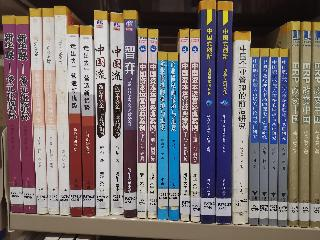book-spine: (0, 15, 25, 213), (13, 16, 38, 214), (215, 1, 234, 225), (28, 8, 48, 214), (76, 24, 97, 217), (199, 1, 217, 225), (42, 9, 60, 215), (53, 7, 70, 215), (92, 10, 109, 216), (232, 32, 250, 225), (108, 12, 124, 215), (66, 26, 83, 217), (123, 9, 138, 218), (298, 22, 312, 228), (246, 48, 261, 225), (288, 22, 301, 226), (136, 28, 149, 219), (267, 47, 280, 226), (180, 29, 192, 222), (258, 48, 270, 226), (277, 49, 289, 227), (146, 29, 157, 220), (310, 22, 320, 227), (167, 52, 179, 220), (157, 52, 169, 219), (190, 28, 200, 223)
